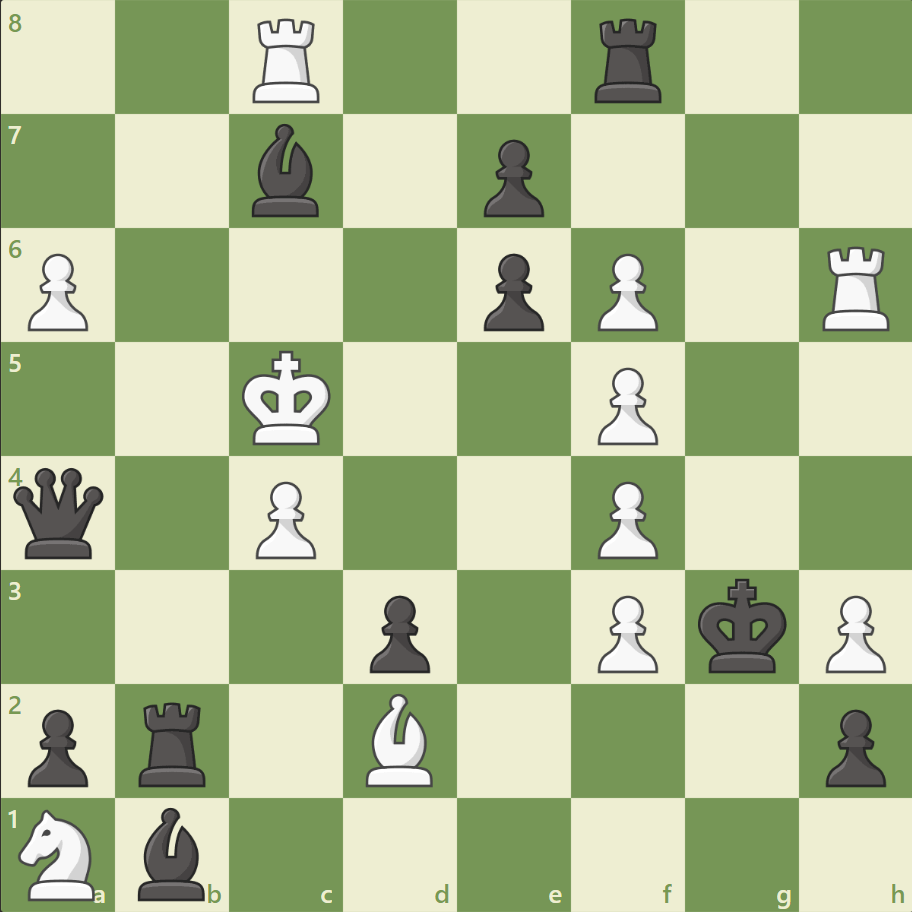B: (358, 687, 442, 790)
K: (238, 344, 338, 452)
N: (11, 802, 108, 904)
P: (20, 246, 95, 337), (247, 473, 322, 564), (588, 246, 662, 337), (588, 359, 662, 450), (588, 473, 662, 564), (588, 586, 662, 677), (815, 586, 889, 677)
R: (246, 12, 329, 109), (814, 239, 897, 336)
b: (131, 801, 215, 904), (244, 120, 328, 222)
k: (692, 571, 792, 679)
p: (474, 132, 549, 223), (474, 246, 549, 337), (20, 700, 95, 791), (361, 586, 435, 677), (815, 700, 889, 791)
q: (10, 463, 109, 562)
r: (587, 12, 670, 109), (133, 693, 215, 790)
